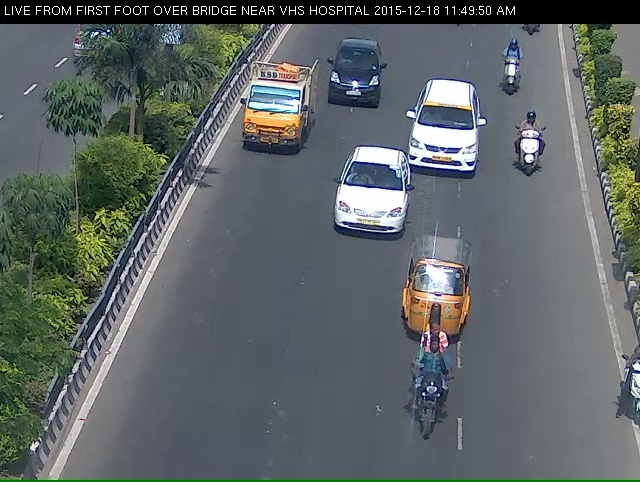Auto: (400, 258, 471, 367), (235, 61, 308, 163)
Car: (403, 86, 486, 191), (336, 160, 407, 260), (329, 41, 385, 115)
Person: (405, 375, 461, 473), (516, 119, 547, 192), (497, 49, 523, 105)
